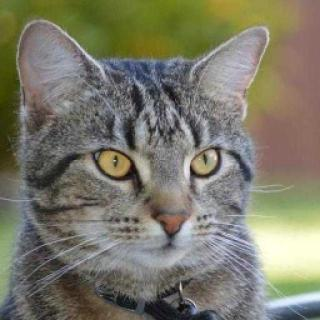cat: (12, 19, 277, 280)
nose: (150, 199, 190, 239)
